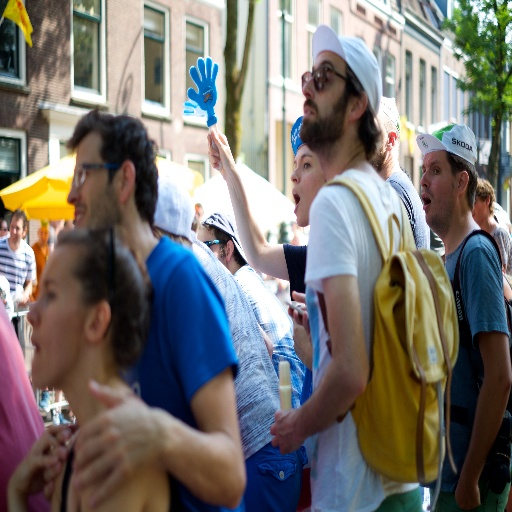hand: (71, 379, 164, 511), (10, 423, 67, 497), (200, 115, 237, 182), (48, 421, 73, 500), (186, 56, 219, 112), (270, 408, 306, 457), (286, 287, 312, 340), (292, 316, 312, 374), (452, 476, 481, 509), (18, 289, 29, 308)
